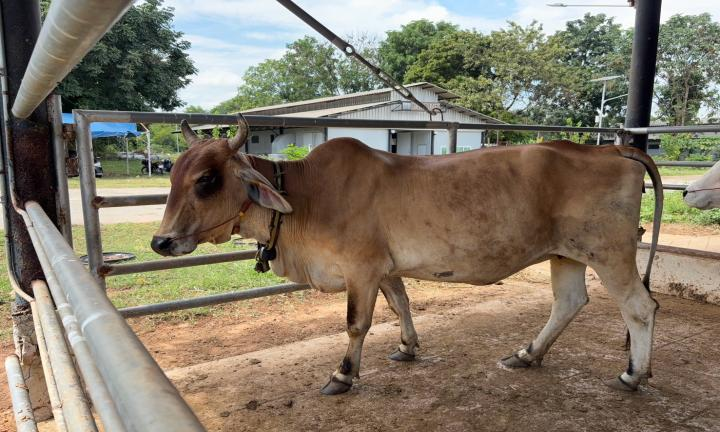Brahman: (151, 113, 662, 394)
